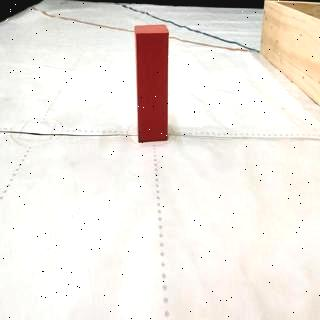redbox: (134, 22, 168, 142)
